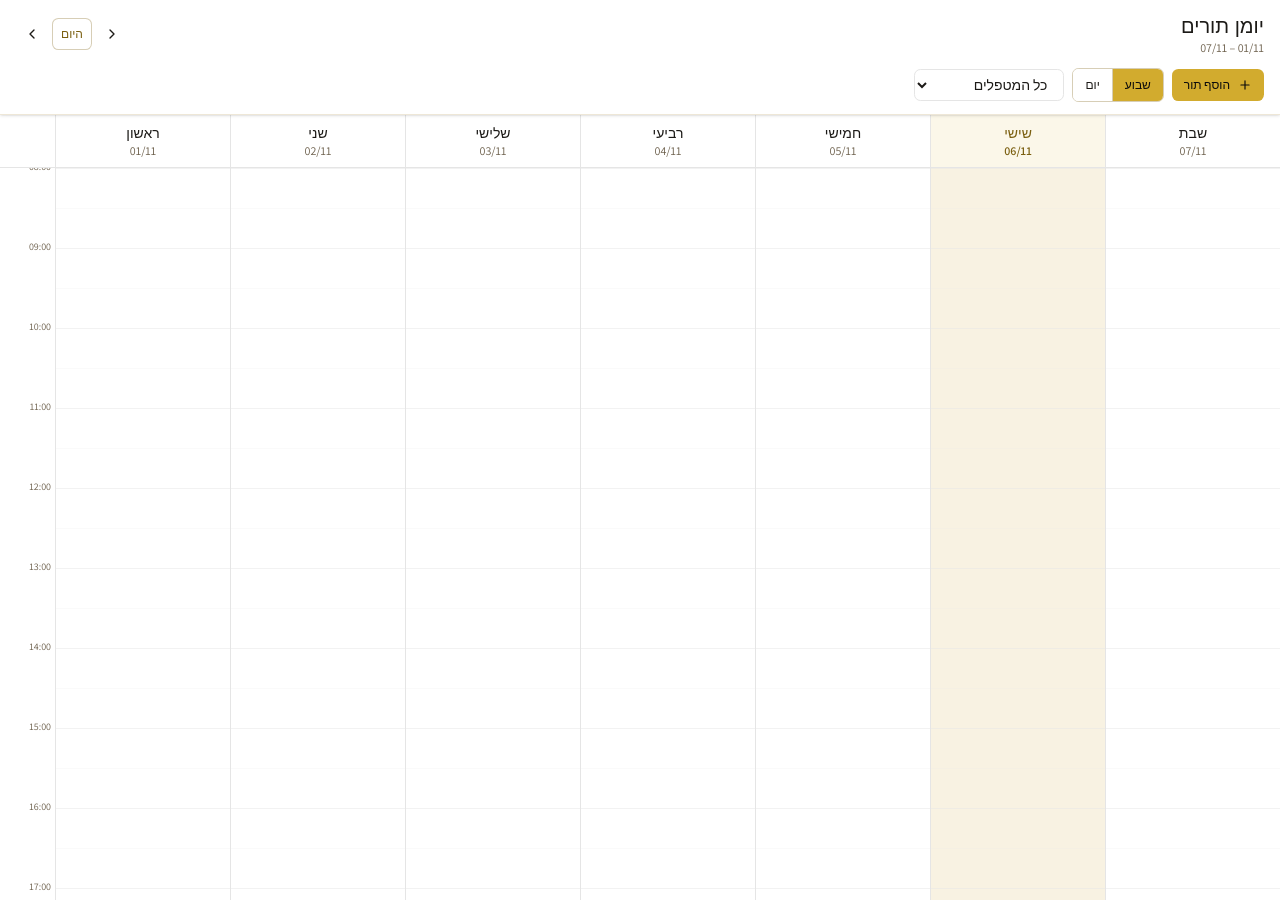
it: WeeklyCalendar — task 5.9: toolbar 'הוסף תור' button › לחיצה על 'הוסף תור' פותחת דיאלוג עם role='dialog'
The image size is (1280, 900).
Click the button with aria-label "פתח דיאלוג הוספת תור חדש" at (1218, 85), box [1172, 69, 1264, 101]
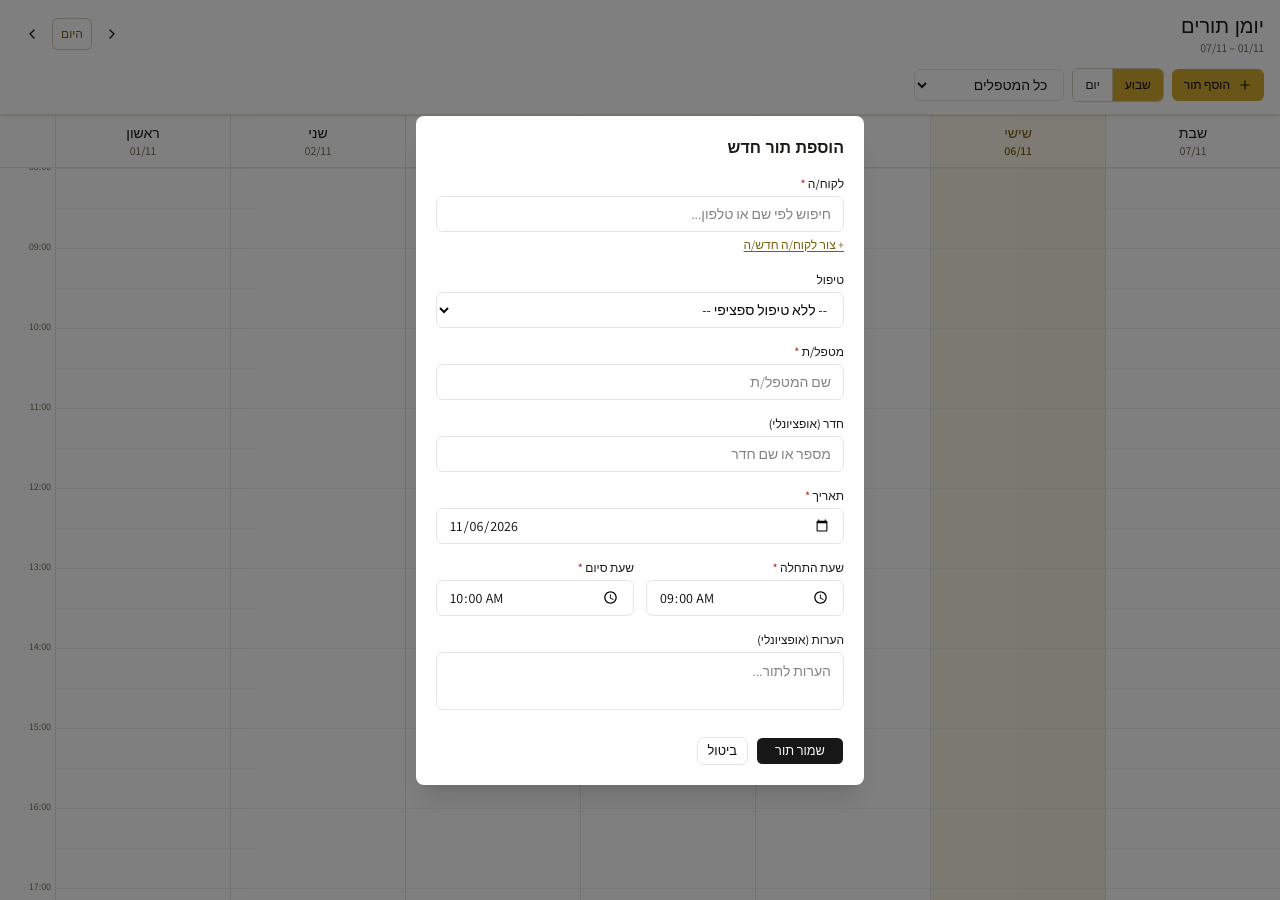
Check: the dialog is shown
